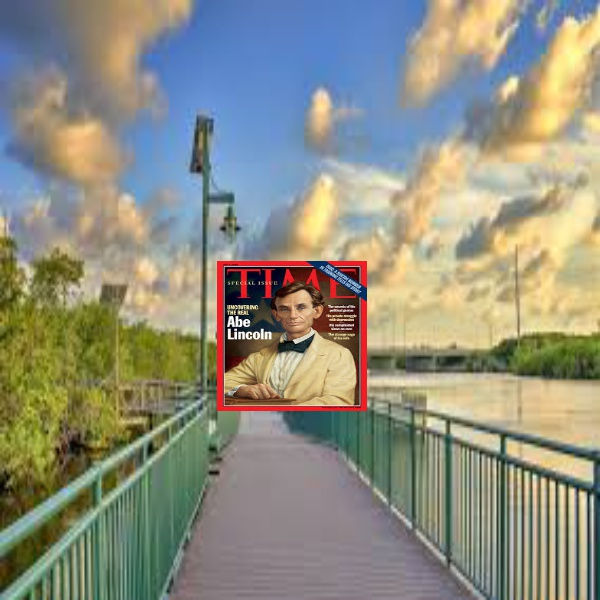time_cover: (211, 250, 375, 415)
